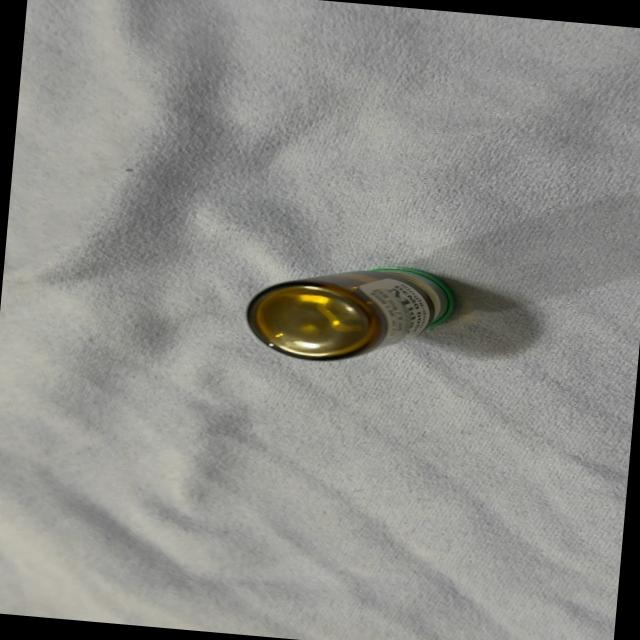midazolm: (246, 254, 454, 370)
